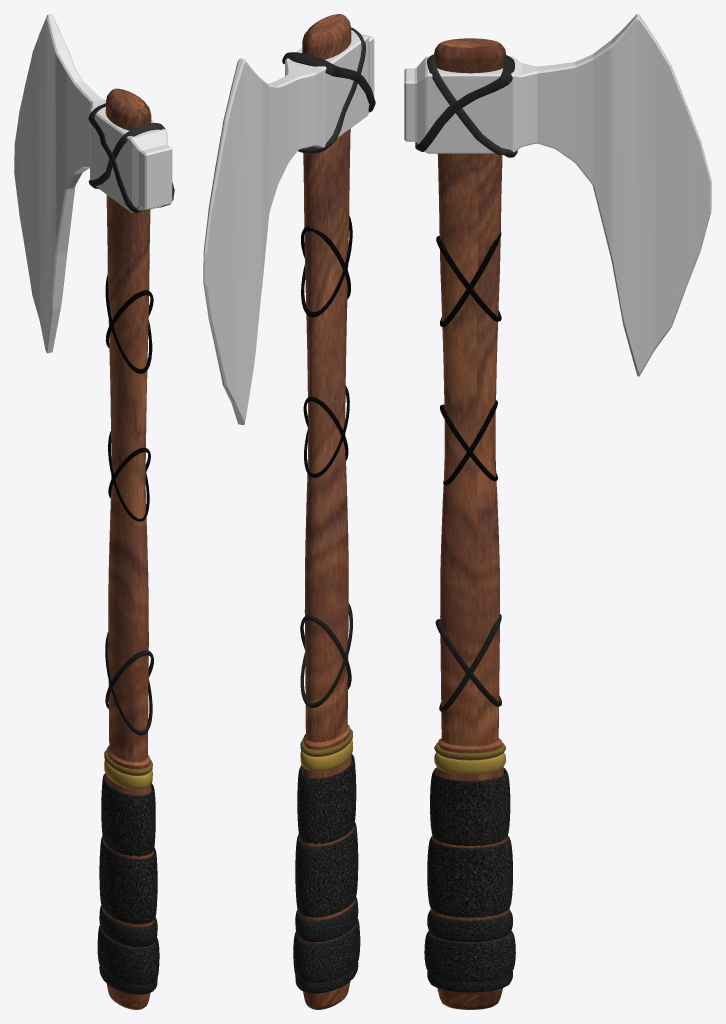
File: new_axe.fbx
3 views of the same model, side by side, from view 1: azimuth 30°, elevation 25°; view 2: azimuth 150°, elevation 25°; view 3: azimuth 270°, elevation 25° (orthographic). The views are drawn at different scales.
Visible parts, largest first — view 1: pCylinder1, pCube1, pTorus14, pTorus15, pTorus12, pTorus13, pTorus7, pTorus8, pTorus10, pTorus5, pTorus11, pTorus16 (+3 smaller); view 2: pCylinder1, pCube1, pTorus14, pTorus15, pTorus12, pTorus13, pTorus7, pTorus8, pTorus10, pTorus11, pTorus6, pTorus17 (+5 smaller); view 3: pCube1, pCylinder1, pTorus14, pTorus15, pTorus12, pTorus13, pTorus7, pTorus8, pTorus10, pTorus11.
Boxes of the visible parts, x1,y1,x2,y2 form: pCylinder1: (102, 88, 154, 1009); pCube1: (14, 14, 172, 353); pTorus14: (99, 836, 157, 924); pTorus15: (101, 773, 155, 856); pTorus12: (97, 925, 159, 984); pTorus13: (99, 905, 157, 947); pTorus7: (88, 103, 174, 212); pTorus8: (88, 123, 165, 188); pTorus10: (104, 760, 152, 789); pTorus5: (105, 632, 152, 735); pTorus11: (99, 965, 157, 994); pTorus16: (105, 275, 152, 373); pCylinder1: (298, 14, 355, 1009); pCube1: (203, 31, 374, 425); pTorus14: (295, 822, 358, 917); pTorus15: (297, 754, 356, 844); pTorus12: (293, 918, 360, 982); pTorus13: (295, 897, 358, 942); pTorus7: (282, 52, 375, 112); pTorus8: (298, 27, 365, 153); pTorus10: (300, 739, 352, 771); pTorus11: (295, 962, 358, 993); pTorus6: (300, 603, 352, 707); pTorus17: (301, 216, 352, 317); pCube1: (404, 14, 711, 376); pCylinder1: (430, 38, 509, 1009); pTorus14: (427, 835, 512, 917); pTorus15: (430, 768, 510, 845); pTorus12: (424, 930, 515, 981); pTorus13: (427, 910, 512, 942); pTorus7: (415, 55, 514, 151); pTorus8: (427, 54, 517, 157); pTorus10: (434, 752, 505, 774); pTorus11: (427, 971, 512, 992).
Bounding box in the file's own units: 2.17 × 38.27 × 10.76.
Materials: 12 (3 with a texture image).
